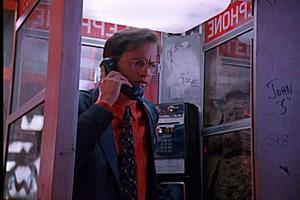person: (73, 28, 166, 200)
